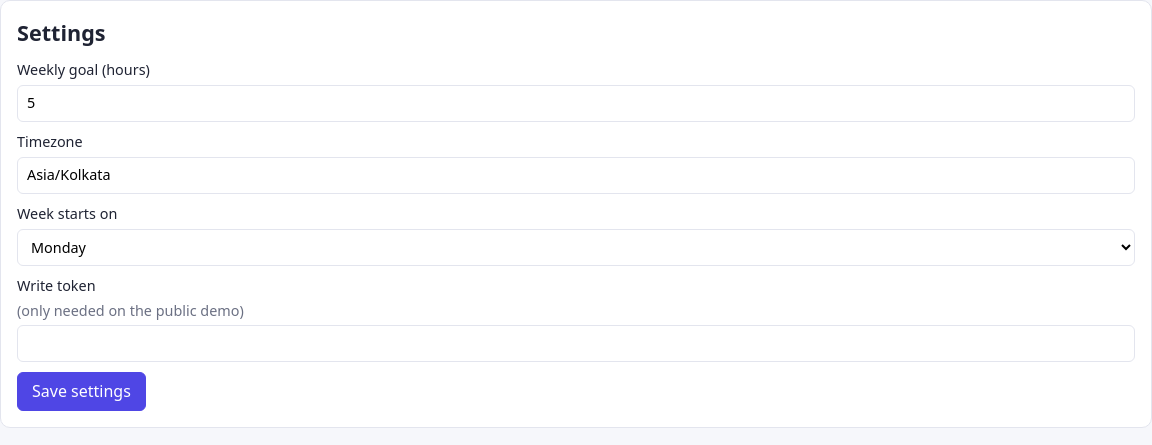
SettingsPage › saves settings and stores the write token
Step 1. Replace the text in the number field labelled "Weekly goal (hours)" with "8" → (576, 104), box [17,85,1135,122]
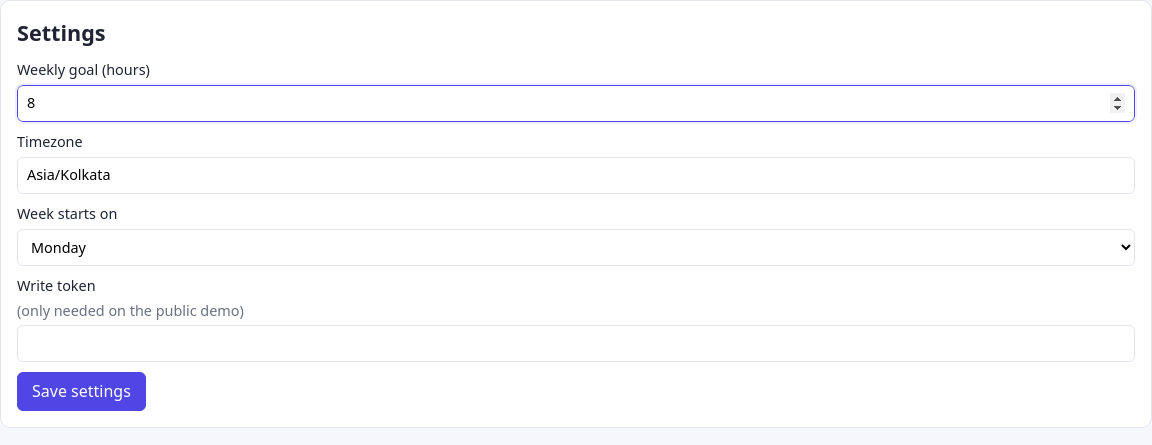
Step 2. Select "Sunday" in the dropdown labelled "Week starts on" → (576, 247), box [17,229,1135,266]
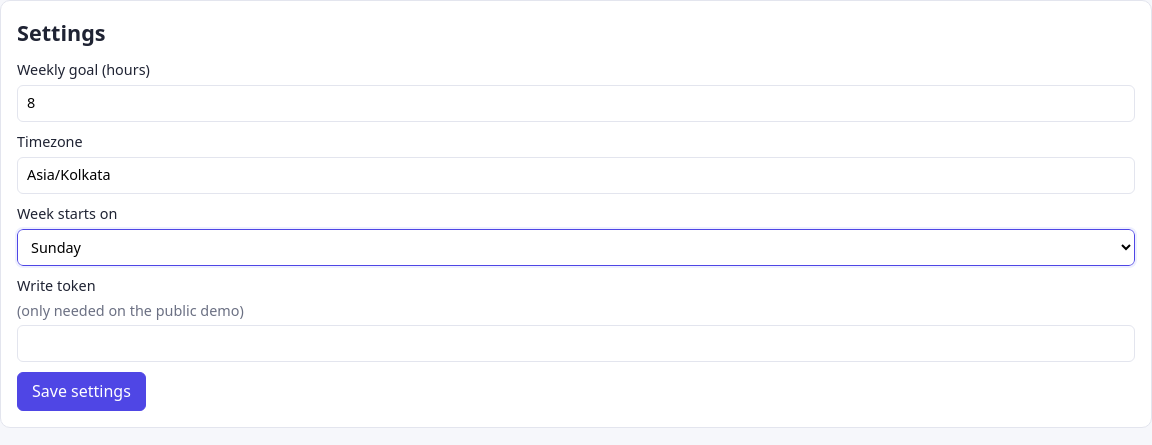
Step 3. Type "demo-token" into the password field labelled "Write token (only needed on the public demo)" → (576, 344), box [17,325,1135,362]
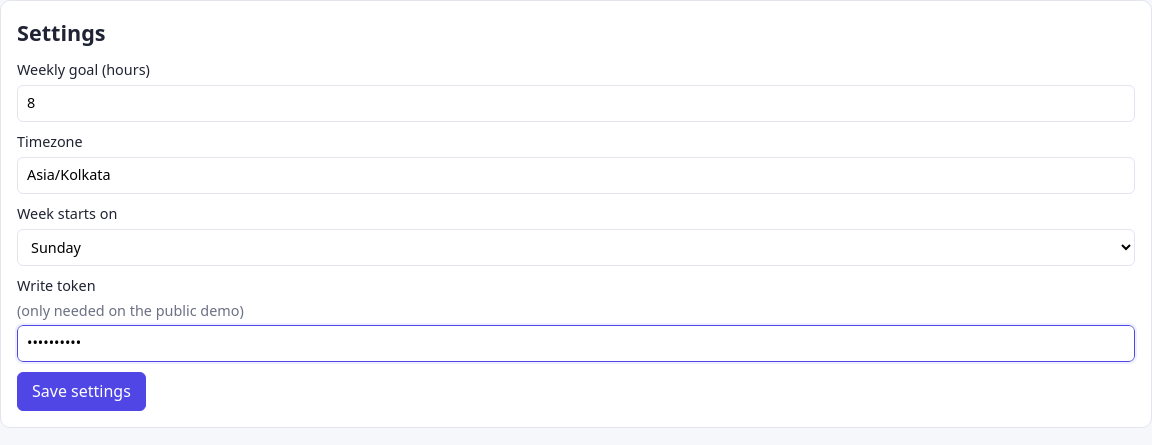
Step 4. Click the button "Save settings" → click(81, 392), box [17,372,146,412]
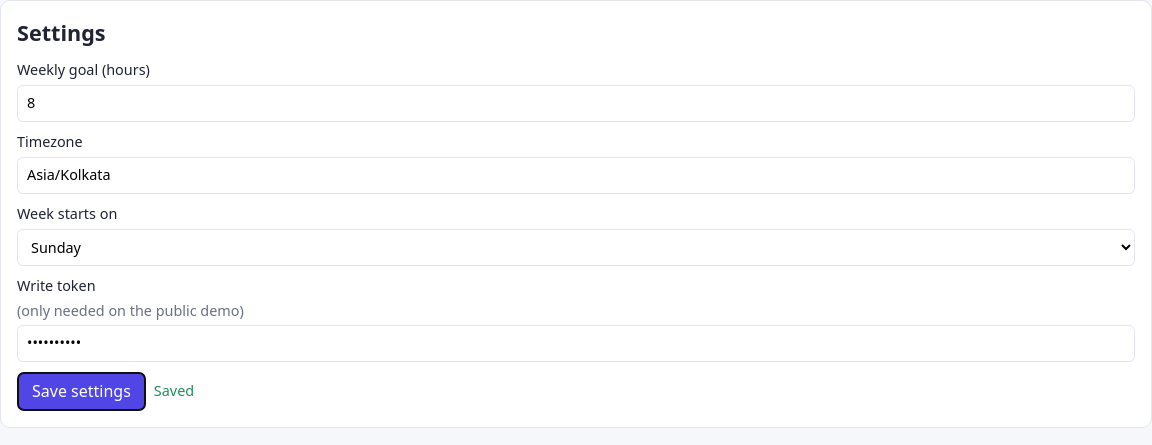
expect the message reads "Saved": met, box [154,381,194,400]
